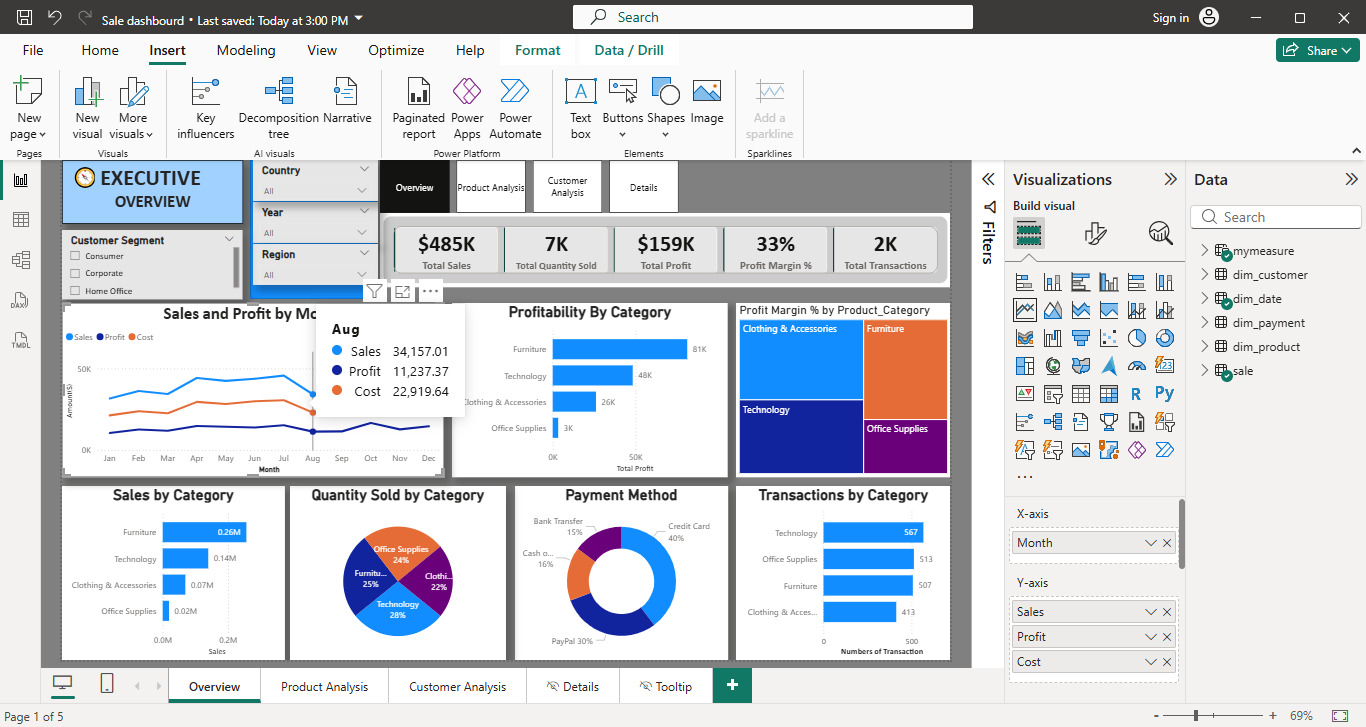

The dashboard page shown, as its layout file describes it:
{"tool":"powerbi","page":{"name":"Overview","canvas":[1280,720],"ordinal":0},"visuals":[{"type":"lineChart","title":"Sales and Profit by Month","fields":{"Y":["mymeasure.Total Sales","mymeasure.Total Profit","Sum(sale.Cost)"],"Category":["dim_date.Month"]},"box":[0,205.9,550.1,250.6],"z":0},{"type":"shape","box":[270.7,0,182,200],"z":1000},{"type":"clusteredBarChart","title":"Sales by Category","fields":{"Y":["mymeasure.Total Sales"],"Category":["dim_product.Product_Category"]},"box":[0,469.4,321.1,250.6],"z":2000},{"type":"clusteredBarChart","title":" Profitability By Category","fields":{"Category":["dim_product.Product_Category Hierarchy.Product_Category","dim_product.Product_Category Hierarchy.Product_Name"],"Y":["mymeasure.Total Profit"]},"box":[561.6,205.9,397.4,250.6],"z":3000},{"type":"donutChart","title":"Payment Method","fields":{"Y":["mymeasure.Total Sales"],"Category":["dim_payment.Payment_Method"]},"box":[652.3,469.4,306.7,250.6],"z":4000},{"type":"pieChart","title":"Quantity Sold by Category","fields":{"Y":["mymeasure.Total Quantity Sold"],"Category":["dim_product.Product_Category"]},"box":[328.3,469.4,311,250.6],"z":5000},{"type":"clusteredBarChart","title":"Transactions by Category","fields":{"Y":["mymeasure.Total Transactions"],"Category":["dim_product.Product_Category Hierarchy.Product_Category","dim_product.Product_Category Hierarchy.Product_Name"]},"box":[970.6,469.4,309.6,250.6],"z":6000},{"type":"textbox","box":[0,0,260.6,92.2],"z":7000},{"type":"cardVisual","fields":{"Data":["mymeasure.Total Sales","mymeasure.Total Quantity Sold","mymeasure.Total Profit","mymeasure.Profit Margin %","mymeasure.Total Transactions"]},"box":[457.9,76.3,822.2,106.6],"z":8000},{"type":"treemap","fields":{"Values":["mymeasure.Profit Margin %"],"Group":["sale.Product_Category"]},"box":[970.6,205.9,309.6,250.6],"z":9000},{"type":"slicer","fields":{"Values":["dim_date.year"]},"box":[275,60,180,59],"z":10000},{"type":"pageNavigator","box":[458,0,432.4,76.9],"z":11000},{"type":"slicer","fields":{"Values":["sale.Country"]},"box":[275,0,180,59],"z":12000},{"type":"slicer","fields":{"Values":["sale.Region"]},"box":[275,121,180,59],"z":13000},{"type":"textbox","box":[10.1,0,41.8,59],"z":14000},{"type":"slicer","fields":{"Values":["dim_customer.Customer_Segment"]},"box":[0,100.1,260.3,100.1],"z":15000}]}

Visuals, with their boxes on the page's 1280x720 design canvas (x1, y1, x2, y2). These are canvas units, not pixel positions in the 1366x727 screenshot, which may show the page scaled, cropped or inside an application window:
"Sales and Profit by Month" lineChart: region(0, 206, 550, 456)
shape: region(271, 0, 453, 200)
"Sales by Category" clusteredBarChart: region(0, 469, 321, 720)
" Profitability By Category" clusteredBarChart: region(562, 206, 959, 456)
"Payment Method" donutChart: region(652, 469, 959, 720)
"Quantity Sold by Category" pieChart: region(328, 469, 639, 720)
"Transactions by Category" clusteredBarChart: region(971, 469, 1280, 720)
textbox: region(0, 0, 261, 92)
cardVisual - mymeasure.Total Sales x mymeasure.Total Quantity Sold: region(458, 76, 1280, 183)
treemap - mymeasure.Profit Margin % x sale.Product_Category: region(971, 206, 1280, 456)
slicer - dim_date.year: region(275, 60, 455, 119)
pageNavigator: region(458, 0, 890, 77)
slicer - sale.Country: region(275, 0, 455, 59)
slicer - sale.Region: region(275, 121, 455, 180)
textbox: region(10, 0, 52, 59)
slicer - dim_customer.Customer_Segment: region(0, 100, 260, 200)
